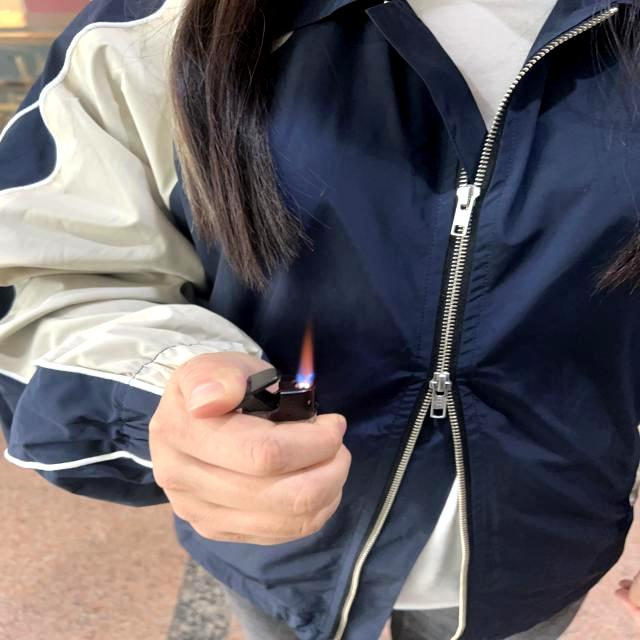fire: (294, 322, 316, 388)
